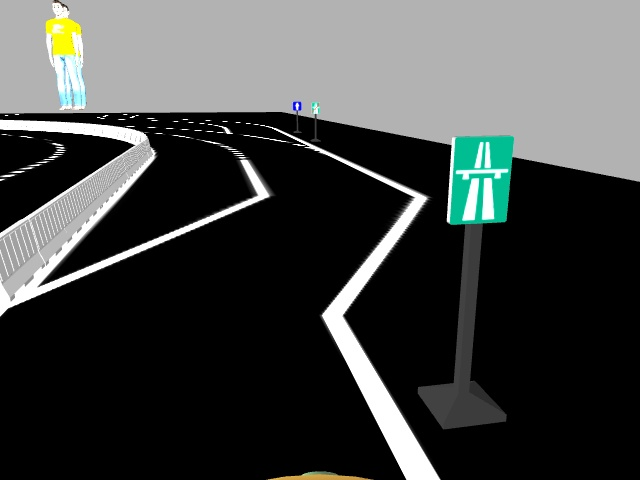HighwayEntrance: (440, 133, 508, 222)
